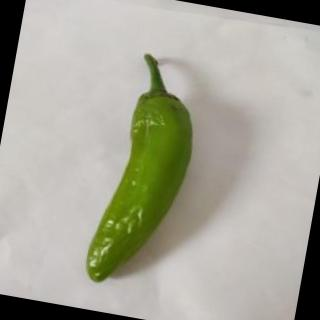Cabai Hijau: (80, 43, 214, 301)
